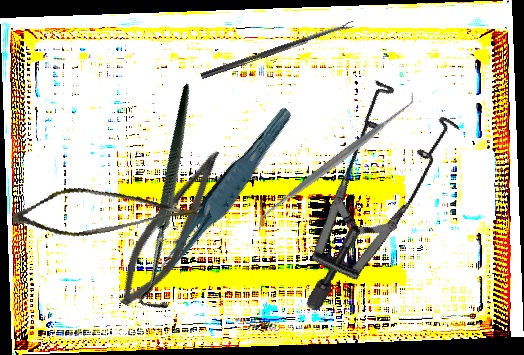Hook Surgical: (62, 83, 284, 318)
Micro Scissor: (108, 138, 232, 317), (8, 159, 211, 260)
Spatula Surgical: (246, 90, 425, 233)
Speculum: (226, 56, 503, 314)
Surgical Spoon: (200, 20, 355, 81)
Tissue Forceps: (140, 105, 306, 284)
